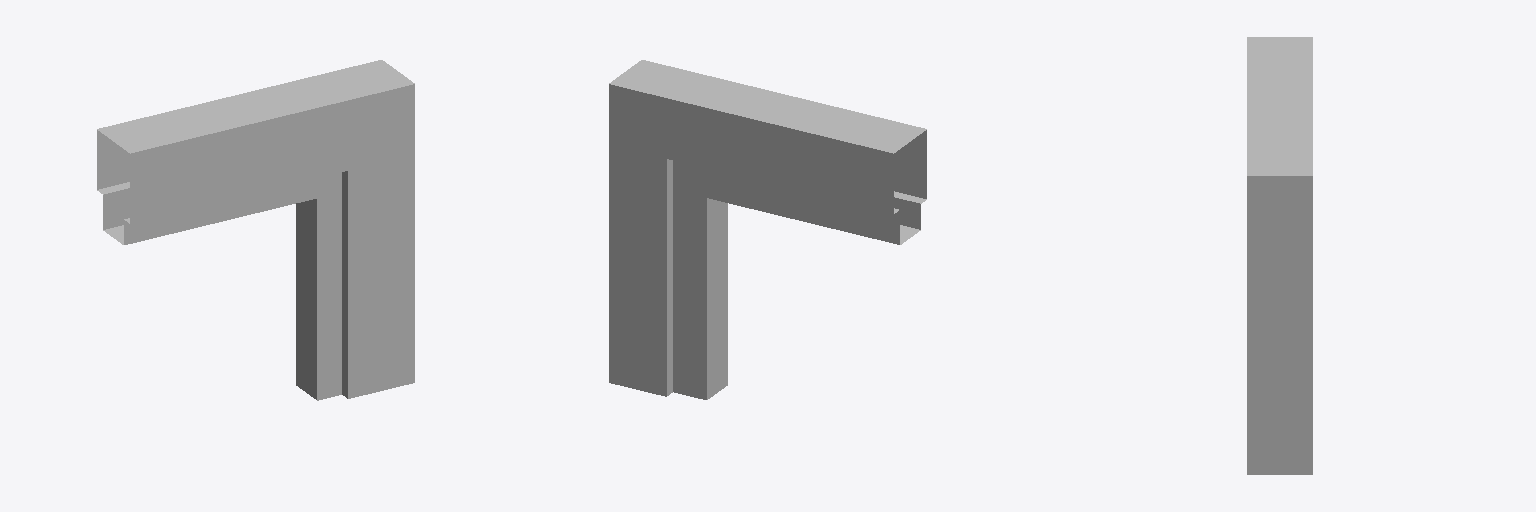
The model's file is original-49.obj.
3 renders of one model, left to right at view 1: azimuth 30°, elevation 25°; view 2: azimuth 150°, elevation 25°; view 3: azimuth 270°, elevation 25°, orthographic.
Visible parts, largest first — view 1: SCREEN_TR1/SCREEN_TR/mesh379/mesh379-geometry#mesh379-geometry; view 2: SCREEN_TR1/SCREEN_TR/mesh379/mesh379-geometry#mesh379-geometry; view 3: SCREEN_TR1/SCREEN_TR/mesh379/mesh379-geometry#mesh379-geometry.
Boxes of the visible parts, x1=… form: SCREEN_TR1/SCREEN_TR/mesh379/mesh379-geometry#mesh379-geometry: x1=97, y1=60, x2=414, y2=400; SCREEN_TR1/SCREEN_TR/mesh379/mesh379-geometry#mesh379-geometry: x1=609, y1=60, x2=926, y2=399; SCREEN_TR1/SCREEN_TR/mesh379/mesh379-geometry#mesh379-geometry: x1=1247, y1=37, x2=1312, y2=474.
Bounding box in the file's own units: 0.0652 × 0.0652 × 0.0132.